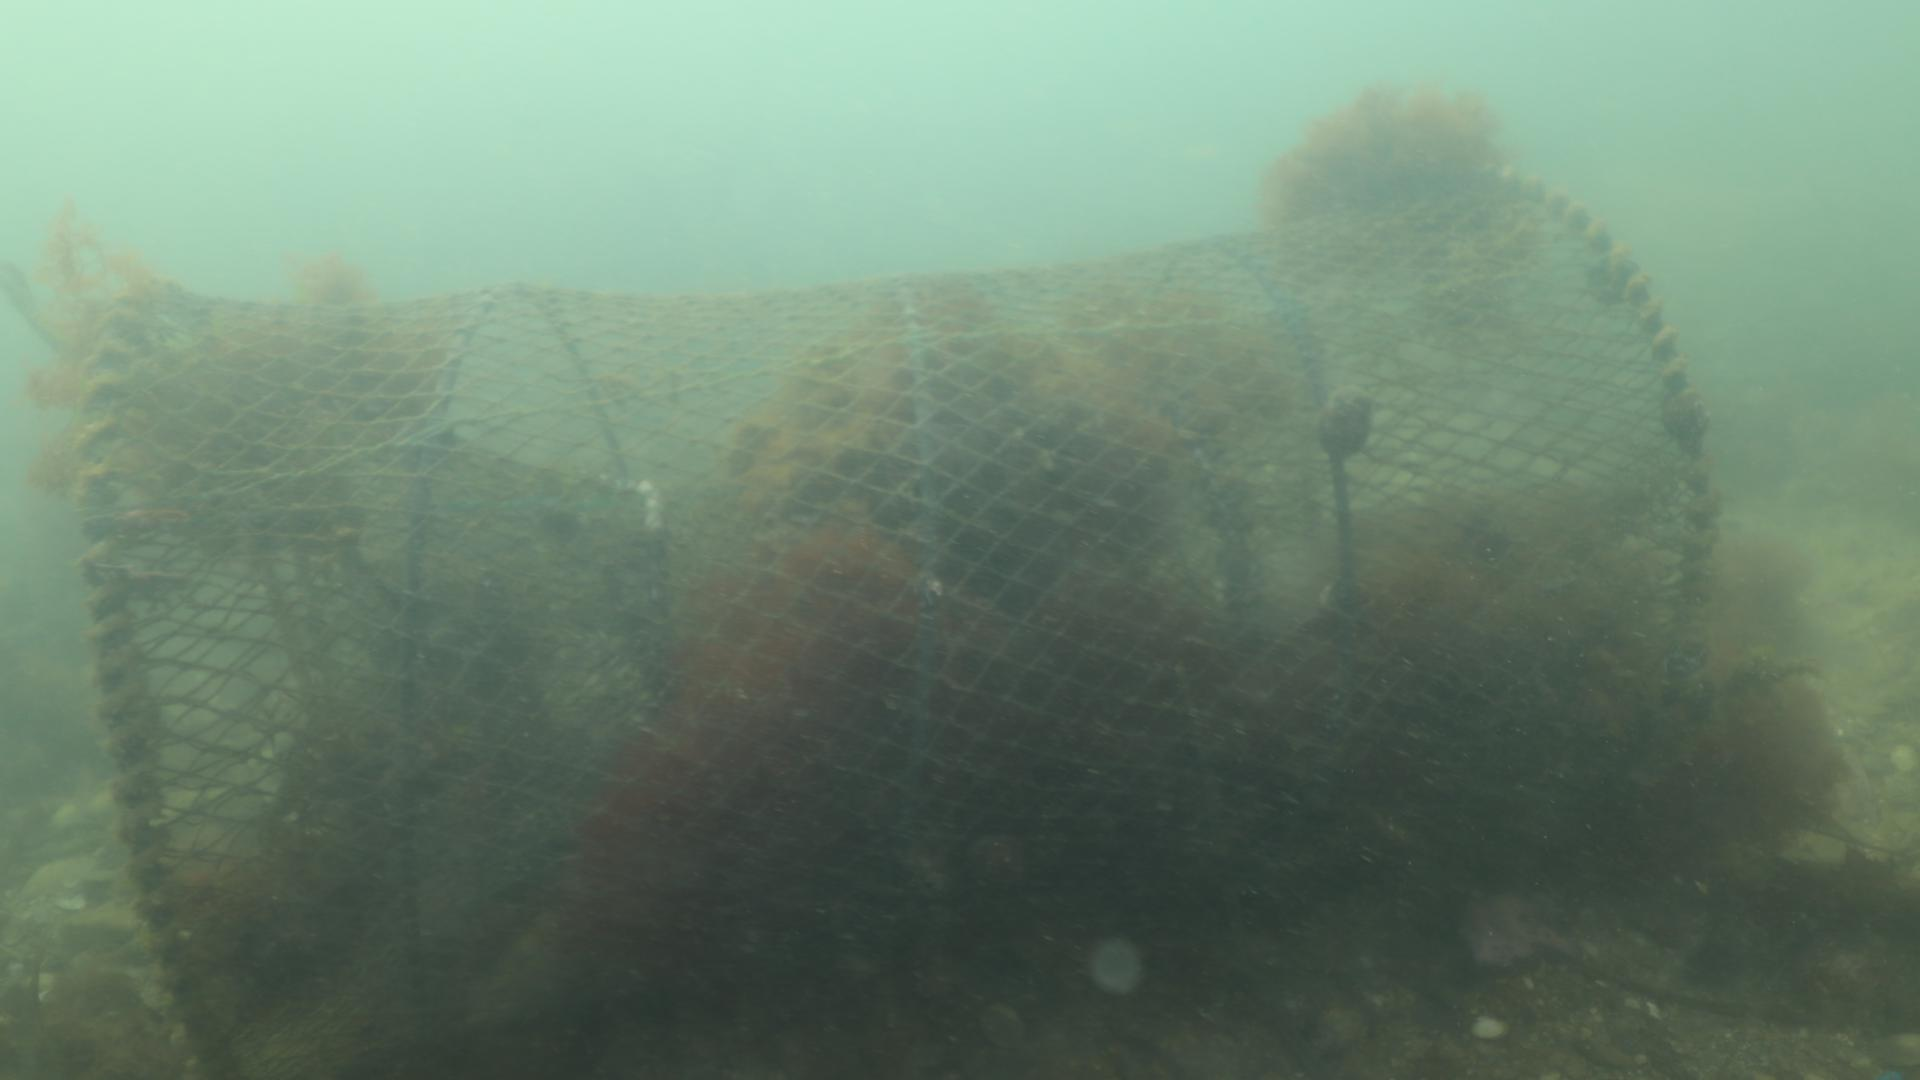spring fish trap: (69, 164, 1712, 1080)
